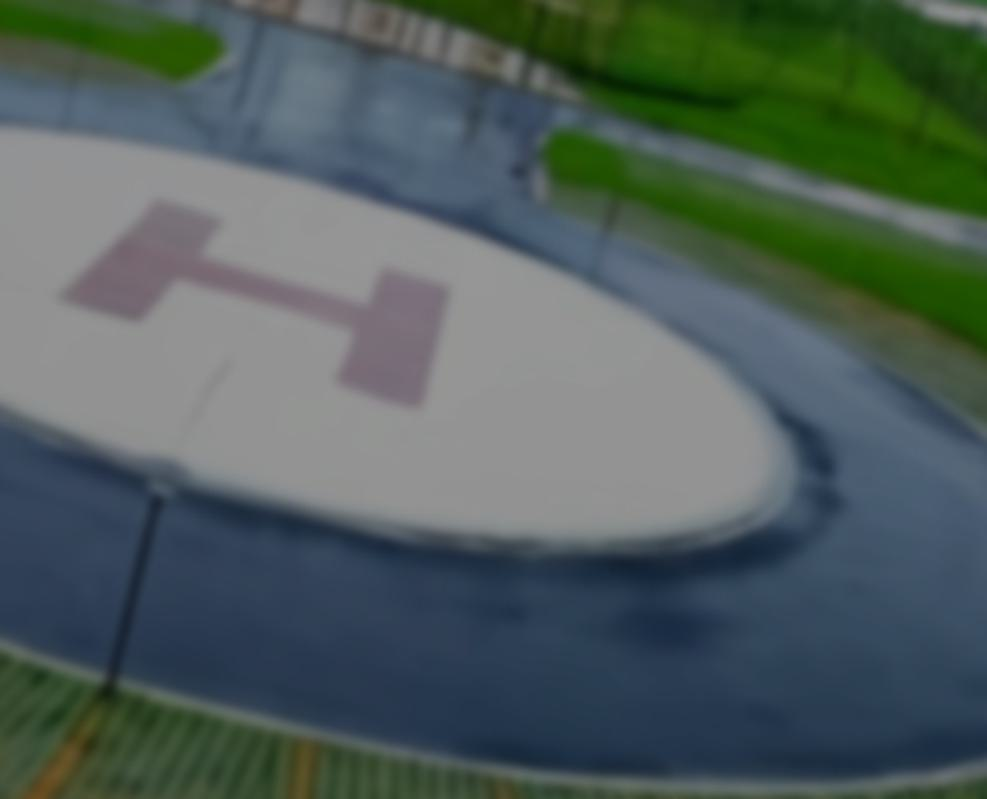Apron: (1, 111, 804, 562)
